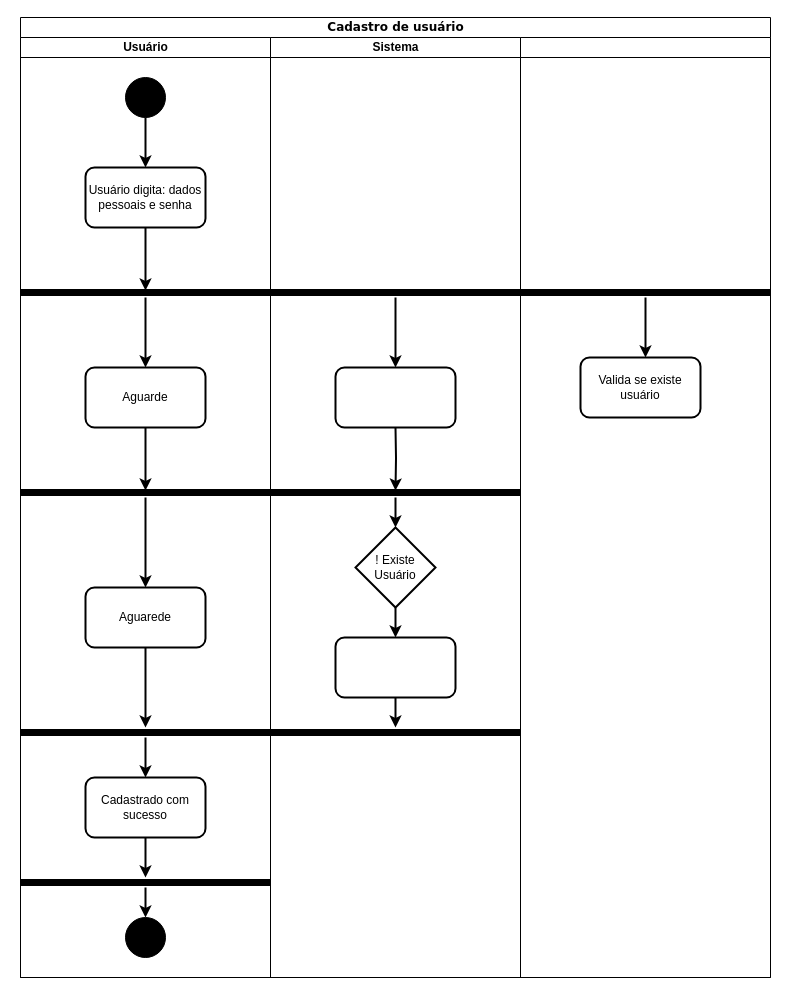
Some shapes in this 791 by 995 pixel diagram are drawn without their labels. Here are the shapes that lost their labels. From the top down, the box of each, then its label:
(334, 366, 456, 428): Sistema verifica se já existe o usuário
(520, 36, 770, 978): SGBD
(334, 636, 456, 698): Return = true Devolve status para usuário
